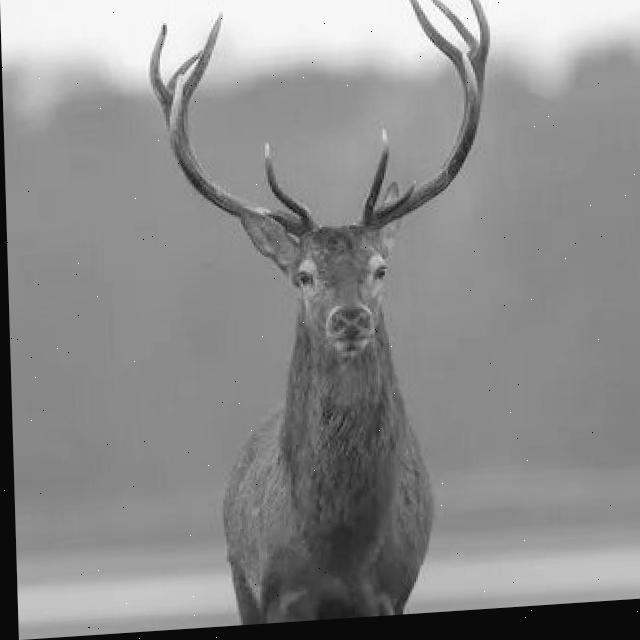Deer: (26, 0, 557, 637)
